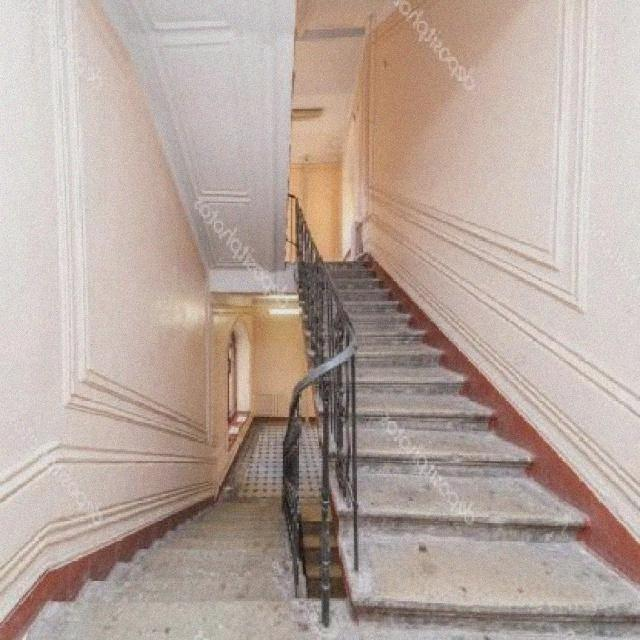stair: (0, 121, 640, 639)
